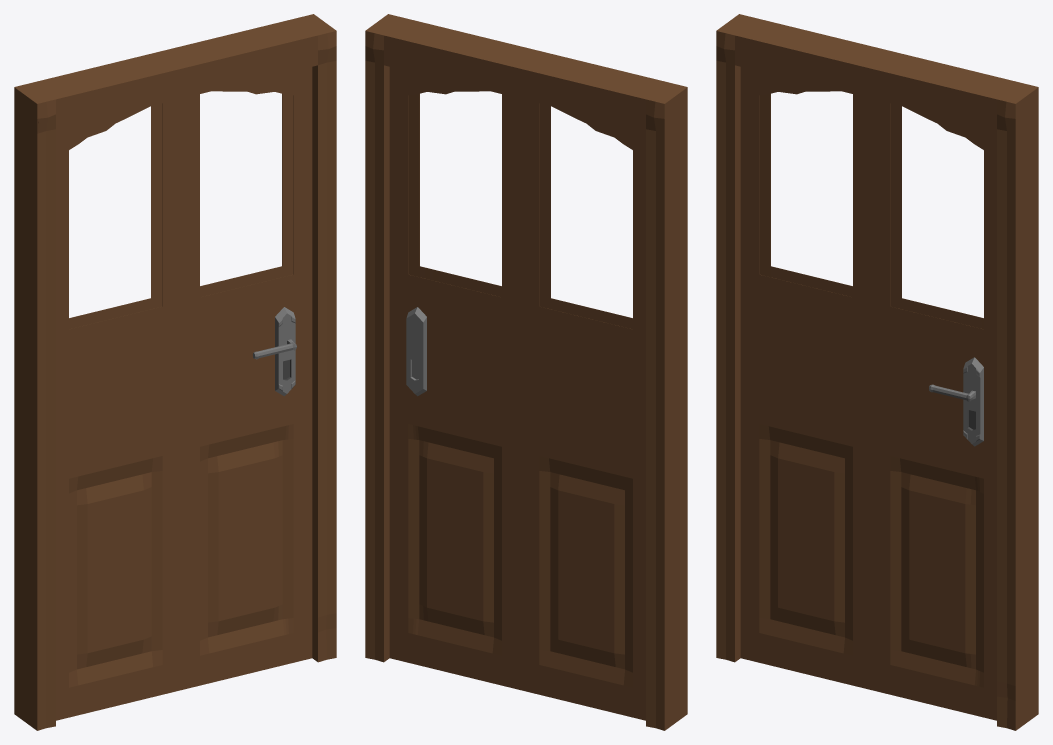
File: _oor.fbx
3 renders of one model, left to right at view 1: azimuth 30°, elevation 25°; view 2: azimuth 150°, elevation 25°; view 3: azimuth 330°, elevation 25°, orthographic.
Visible parts, largest first — view 1: Cube; view 2: Cube; view 3: Cube.
Boxes of the visible parts, box(x1,y1,x2,y2) form: Cube: box(14, 14, 336, 730); Cube: box(365, 14, 687, 730); Cube: box(716, 14, 1038, 730).
Size of the model in its own units: 600 by 1200 by 95.75.
